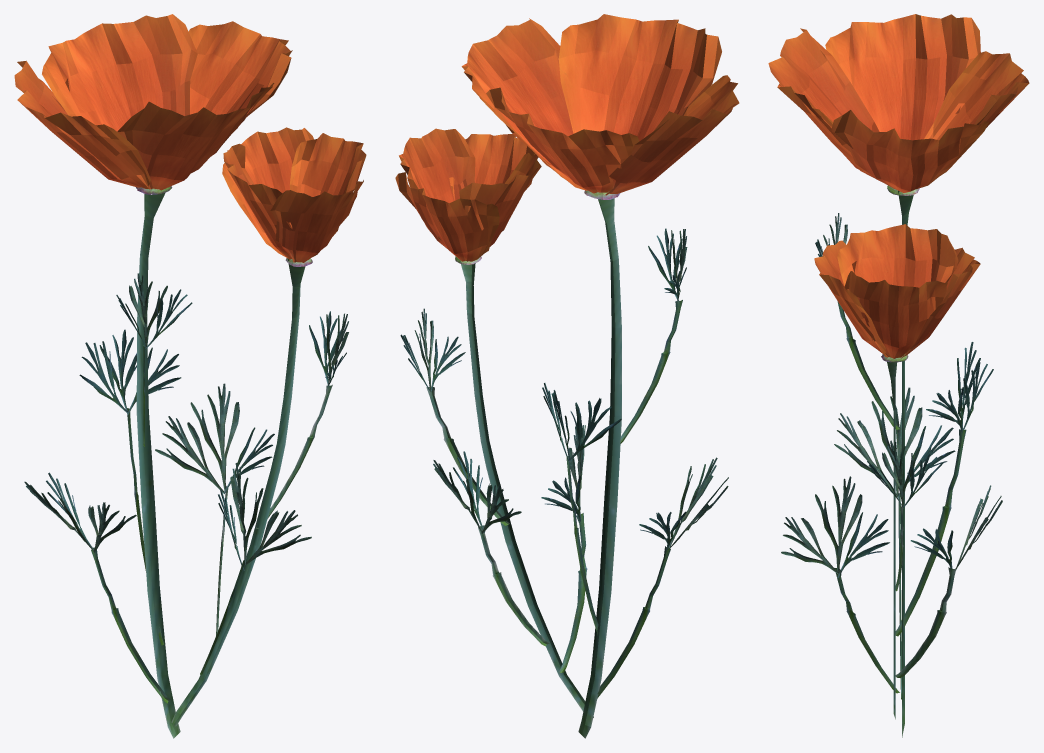
Rendered from poppy.gltf.
3 renders of one model, left to right at view 1: azimuth 30°, elevation 25°; view 2: azimuth 150°, elevation 25°; view 3: azimuth 270°, elevation 25°, orthographic. The views are drawn at different scales.
Parts seen in each view (by area): view 1: petal.006; view 2: petal.006; view 3: petal.006.
Part boxes in pixels (bbox=[...]): petal.006: bbox=[14, 14, 366, 738]; petal.006: bbox=[395, 14, 739, 738]; petal.006: bbox=[768, 14, 1029, 737].
Bounding box in the file's own units: 3.01 × 5.98 × 2.1.
Materials: 30 (30 with a texture image).
